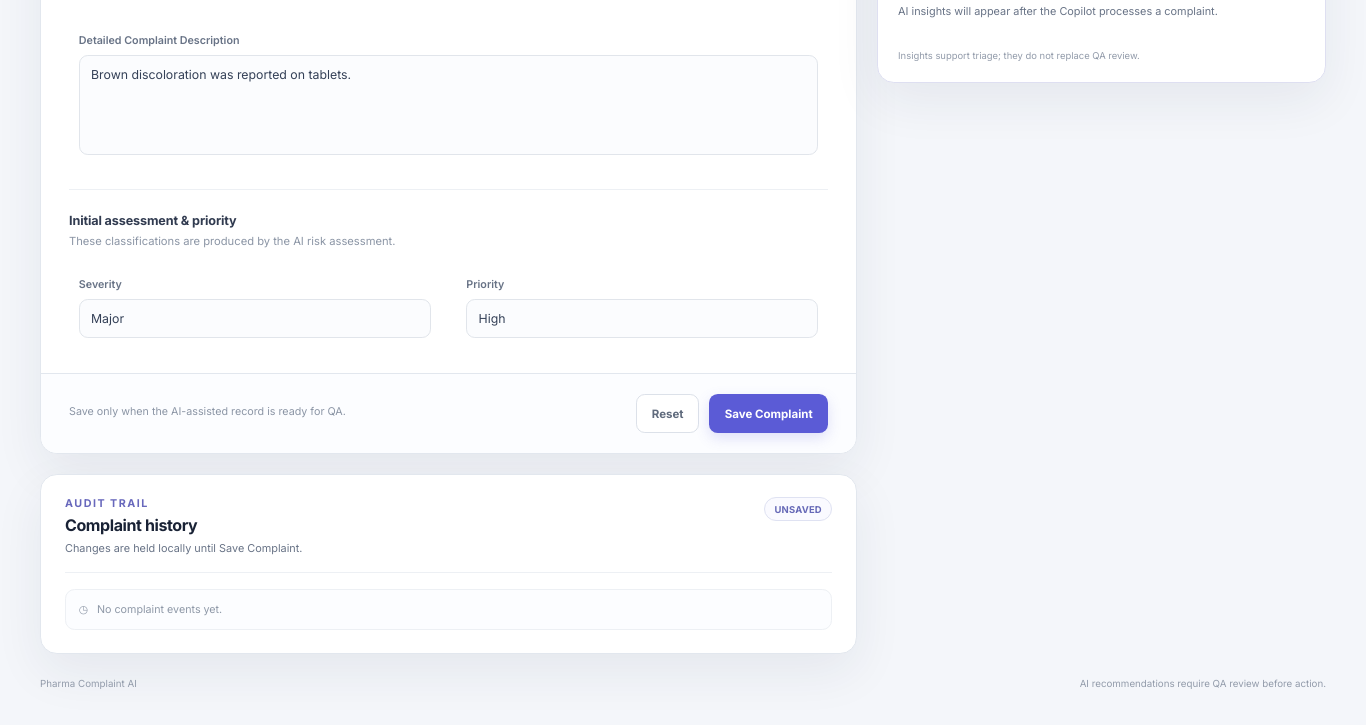
ComplaintPage AI workflow › prevents duplicate save requests while the first save is pending
This screenshot has width=1366, height=725.
(page scrolled)
Click the button "Save Complaint".
click(769, 414)  # box [709, 394, 828, 433]
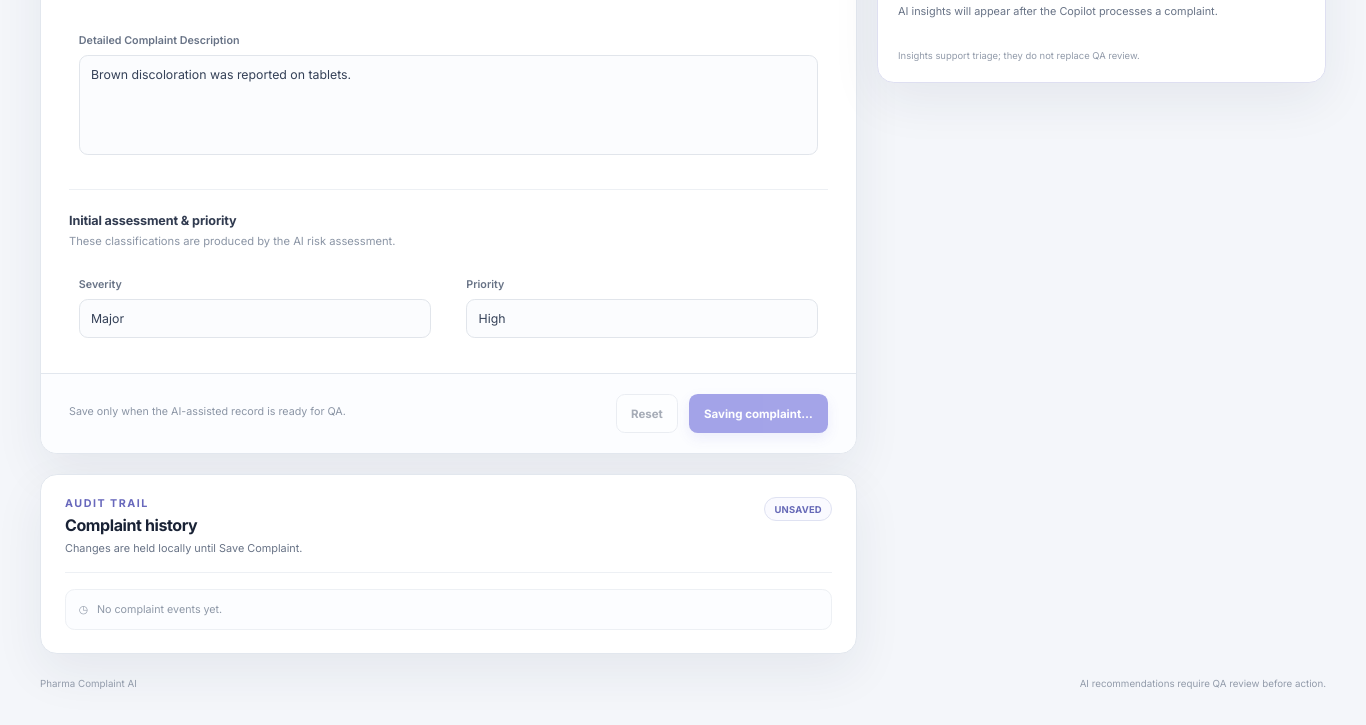
Click the button named "Save Complaint".
click(758, 414)  # box [689, 394, 828, 433]
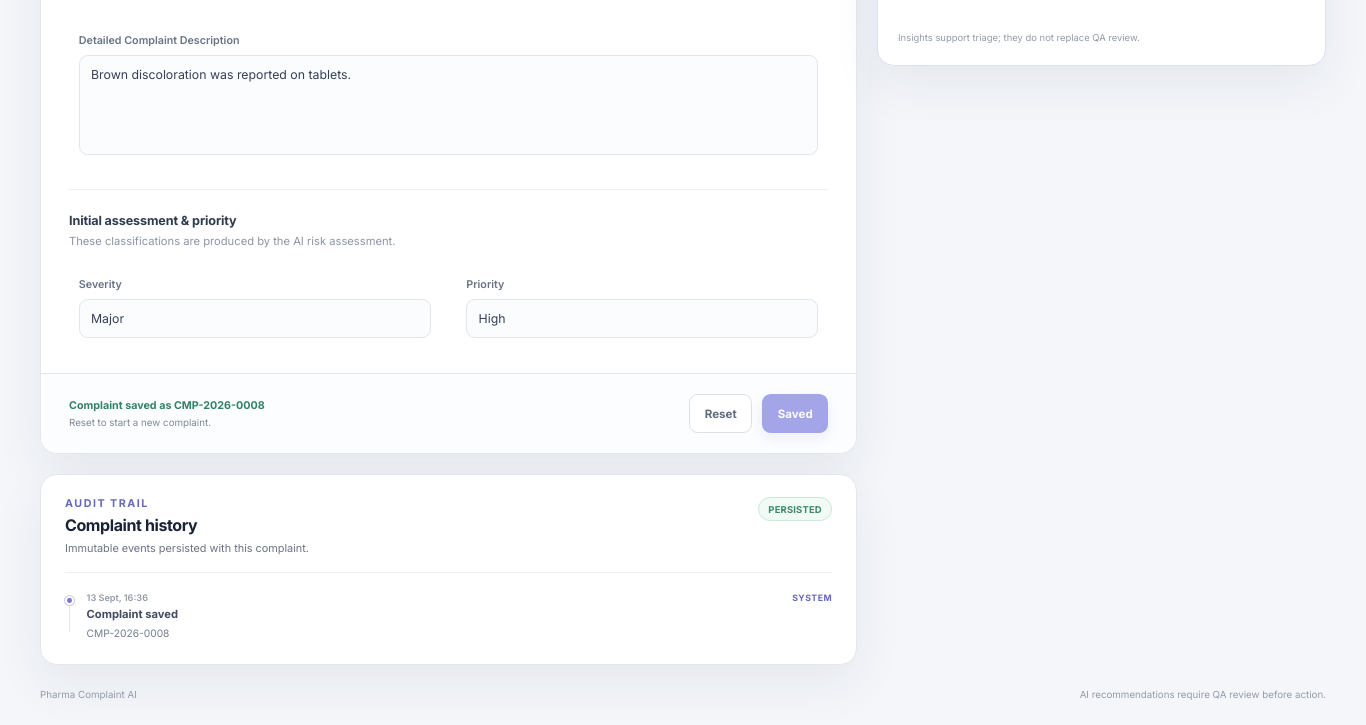
Now the text "Complaint saved as CMP-2026-0008" is shown, box [69, 398, 265, 413]
